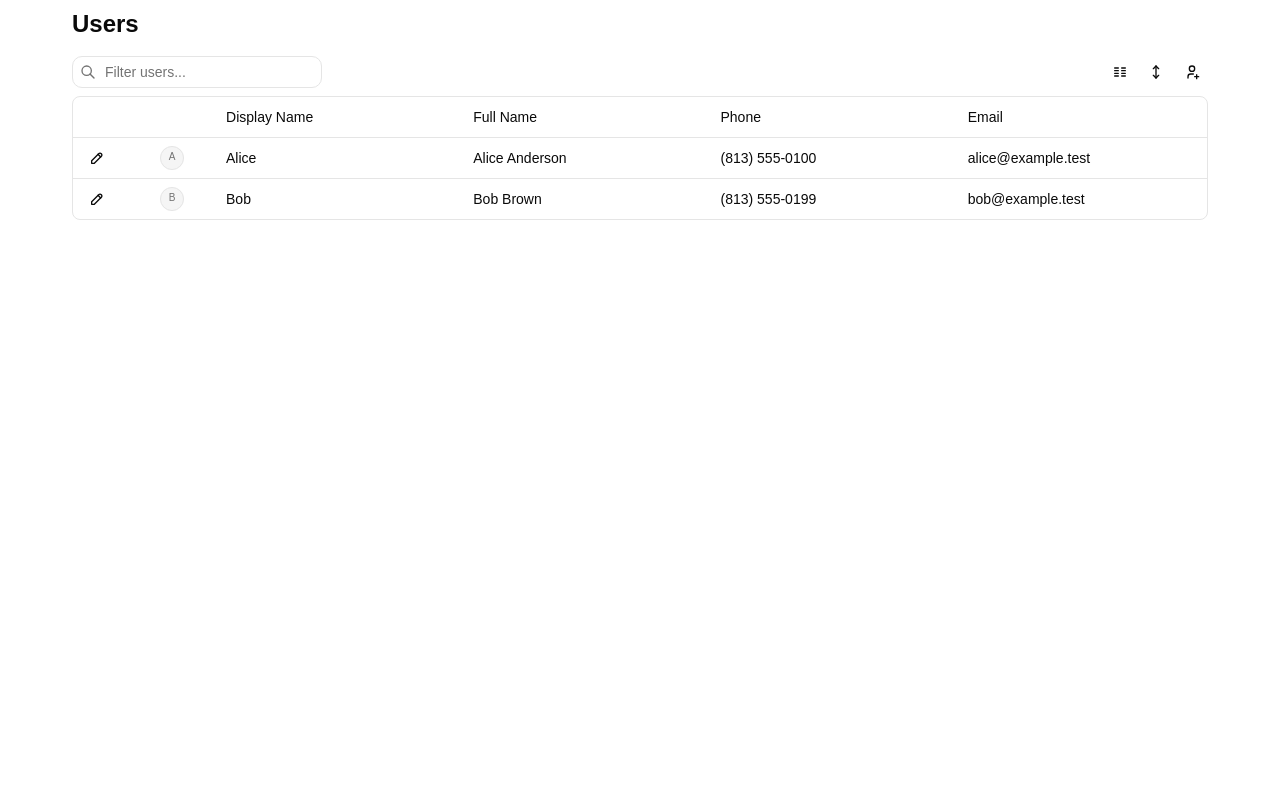
Test case: UsersPage › saves only the changed field via PATCH and shows the updated value in the table
Expected: the text "Alice" is shown, [218,137,465,178]
Click the button named "Edit user" in the row of "Alice Anderson".
click(97, 158)  # box [81,142,113,174]
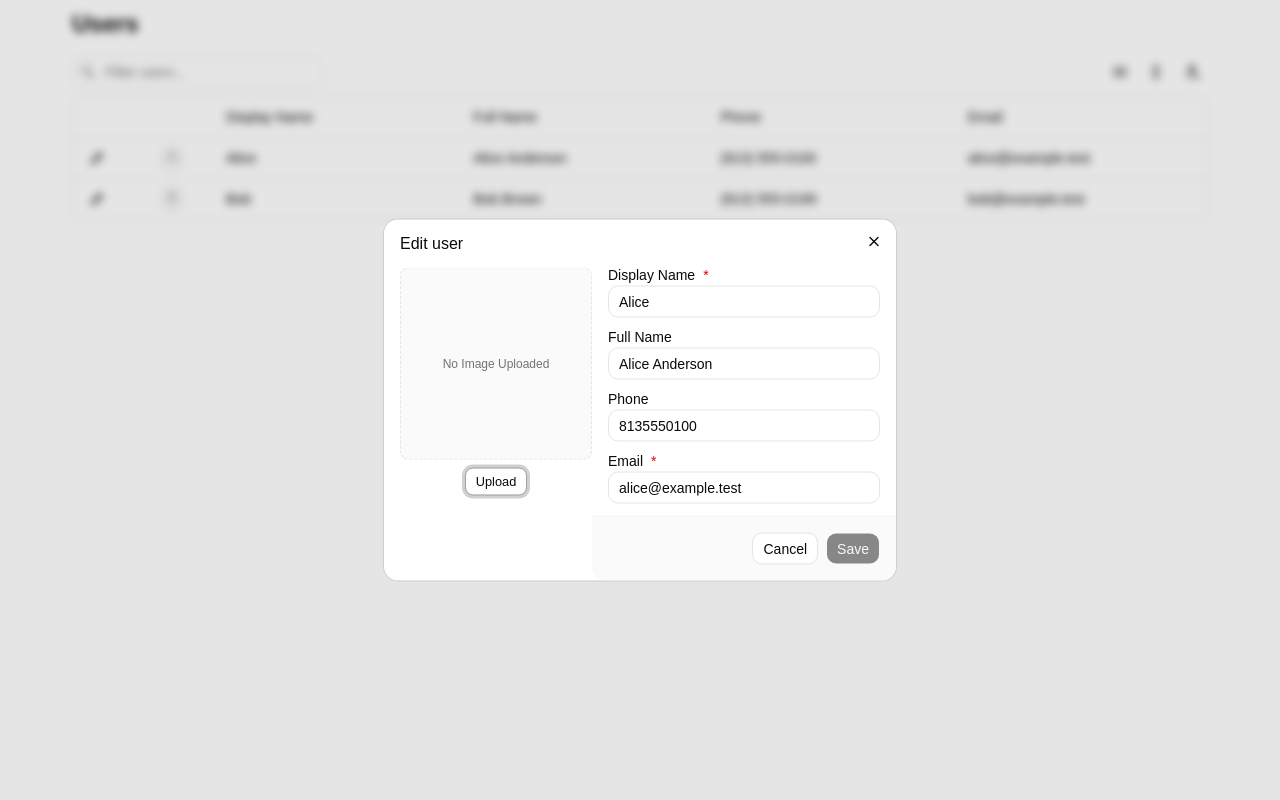
Replace the text in the field labelled "Display Name *" with "Alicia" at coordinates (744, 302), box [608,286,880,318]
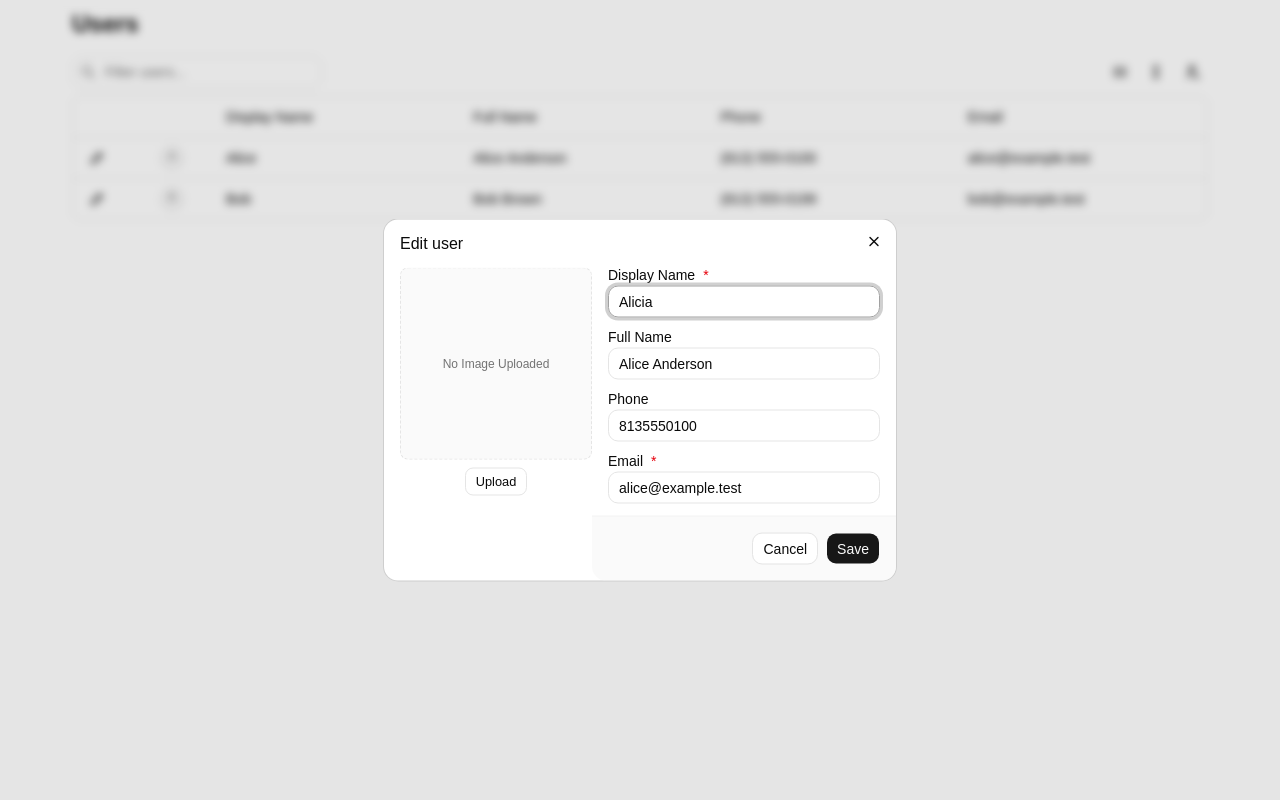
Click the button "Save".
click(853, 548)  # box [826,532,880,564]
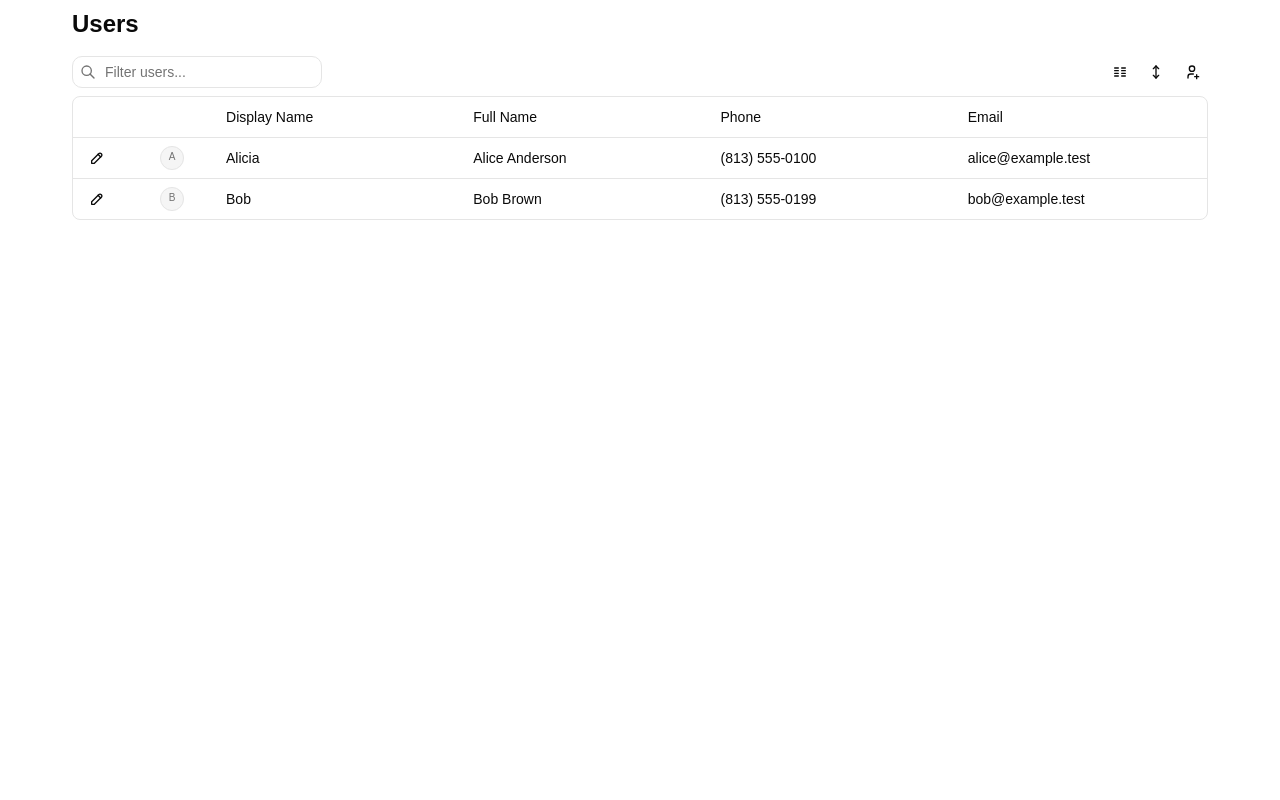
Expected: the dialog is gone
Expected: the text "Alicia" is shown, [218,137,465,178]
